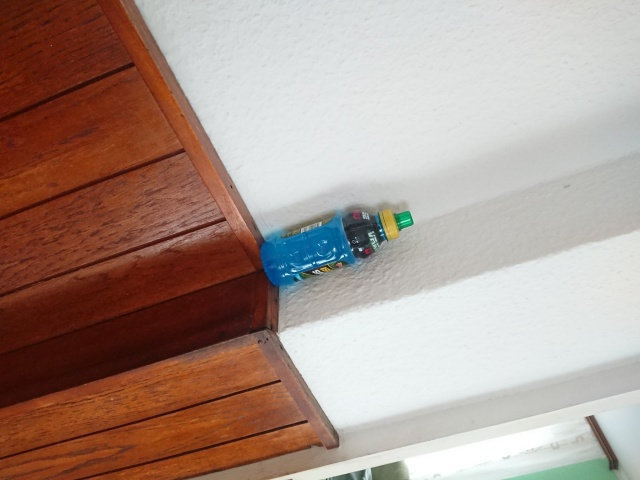Vindi Iso Sport Forest Strawberries 500mL: (258, 207, 415, 288)
